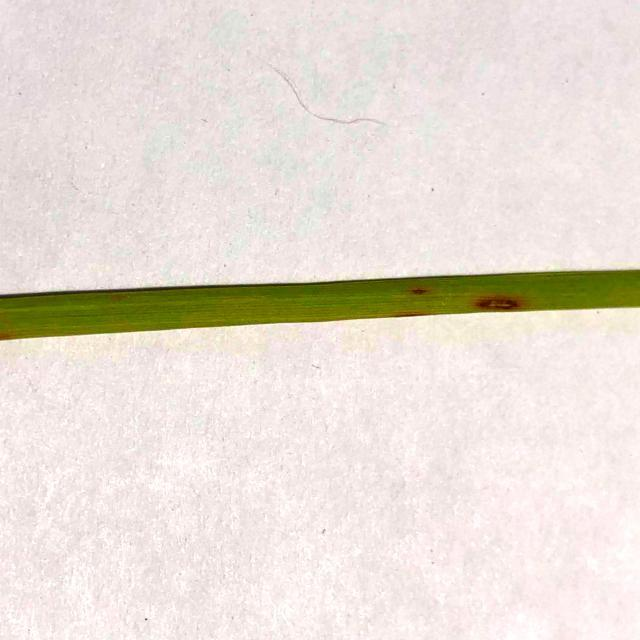Blast: (478, 292, 516, 310), (408, 282, 429, 302)
